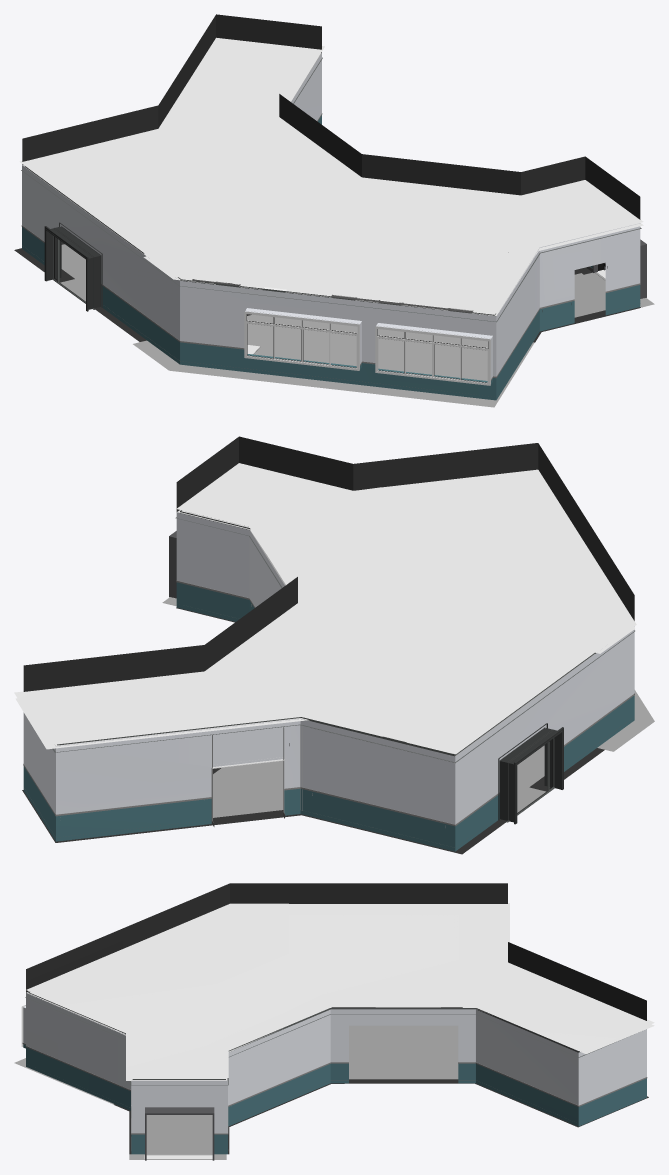
Rendered from SM_H_Building_Tide_MedicalRoom_06_ATLAS.fbx.
3 views of the same model, one above another, from view 1: azimuth 30°, elevation 25°; view 2: azimuth 150°, elevation 25°; view 3: azimuth 270°, elevation 25° (orthographic). The views are drawn at different scales.
Visible parts, largest first — view 1: SM_H_Building_Tide_MedicalRoom_06_ATLAS; view 2: SM_H_Building_Tide_MedicalRoom_06_ATLAS; view 3: SM_H_Building_Tide_MedicalRoom_06_ATLAS.
Part boxes in pixels (x1=…): SM_H_Building_Tide_MedicalRoom_06_ATLAS: x1=14, y1=14, x2=654, y2=407; SM_H_Building_Tide_MedicalRoom_06_ATLAS: x1=14, y1=436, x2=654, y2=854; SM_H_Building_Tide_MedicalRoom_06_ATLAS: x1=14, y1=883, x2=654, y2=1160.
Bounding box in the file's own units: 2269 × 3293 × 554.
